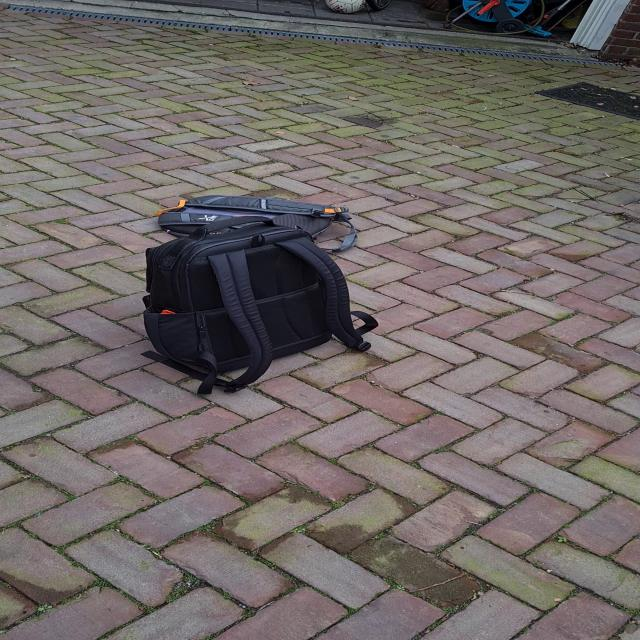backpack: (129, 190, 374, 395), (147, 194, 374, 241)
